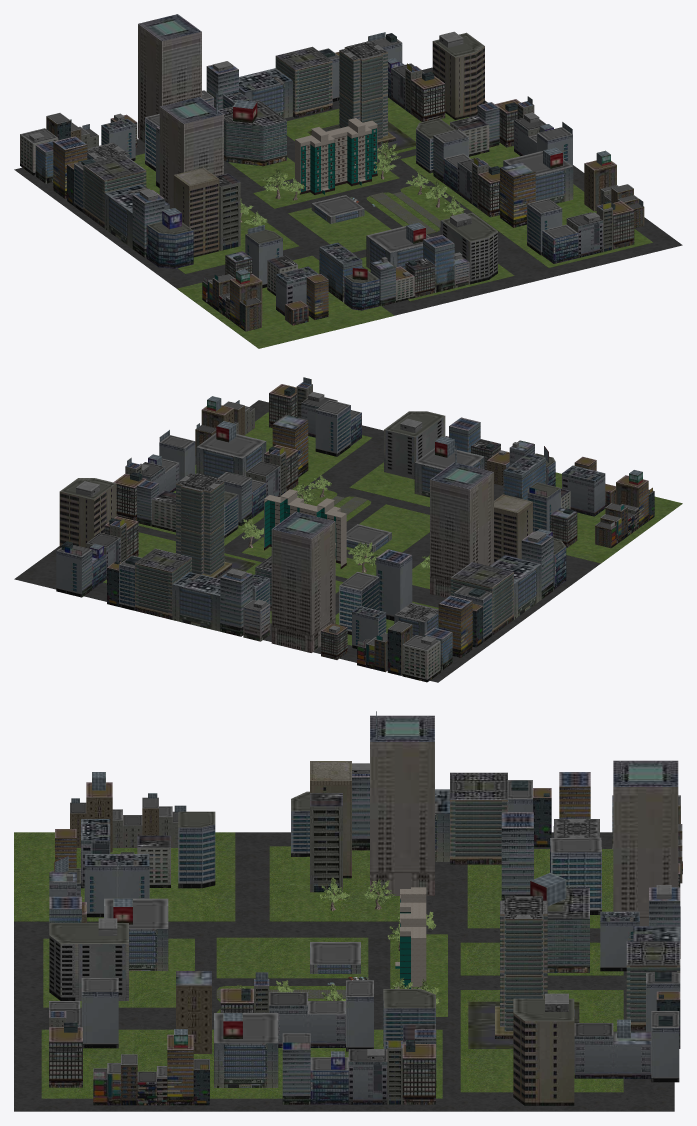
The model's file is waijing.fbx.
3 views of the same model, one above another, from view 1: azimuth 30°, elevation 25°; view 2: azimuth 150°, elevation 25°; view 3: azimuth 270°, elevation 25° (orthographic). The views are drawn at different scales.
Parts seen in each view (by area): view 1: waijing; view 2: waijing; view 3: waijing.
Part boxes in pixels (x1,y1,x2,y2): waijing: (14, 14, 682, 348); waijing: (14, 377, 682, 682); waijing: (14, 711, 682, 1111).
Size of the model in its own units: 55037 by 16929 by 55740.
20 materials, 15 textured.
